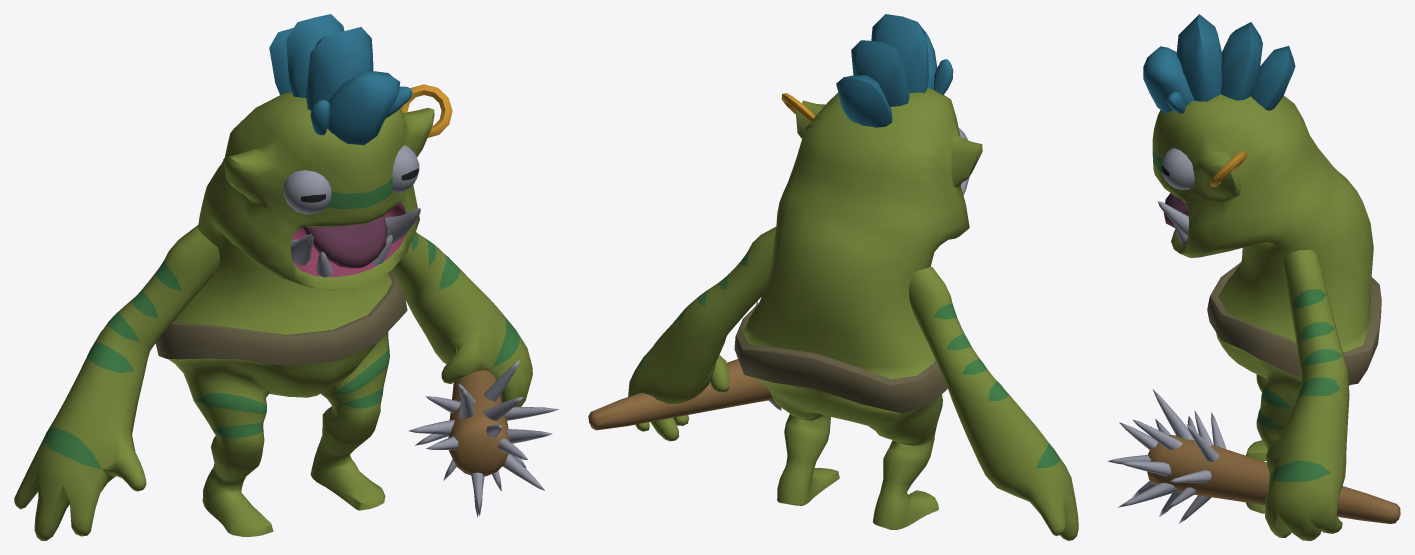
Rendered from Orc.obj.
The picture shows the model from 3 angles, left to right: view 1: azimuth 30°, elevation 25°; view 2: azimuth 150°, elevation 25°; view 3: azimuth 270°, elevation 25°; orthographic projection. The views are drawn at different scales.
Visible parts, largest first — view 1: Orc_Cube.026, Orc_Weapon_Cylinder.008; view 2: Orc_Cube.026, Orc_Weapon_Cylinder.008; view 3: Orc_Cube.026, Orc_Weapon_Cylinder.008.
Part boxes in pixels (x1=…): Orc_Cube.026: x1=14, y1=14, x2=532, y2=540; Orc_Weapon_Cylinder.008: x1=409, y1=360, x2=558, y2=517; Orc_Cube.026: x1=628, y1=14, x2=1078, y2=540; Orc_Weapon_Cylinder.008: x1=588, y1=301, x2=781, y2=430; Orc_Cube.026: x1=1143, y1=14, x2=1381, y2=540; Orc_Weapon_Cylinder.008: x1=1108, y1=389, x2=1400, y2=523.
Bounding box in the file's own units: 3.14 × 3.06 × 1.77.
